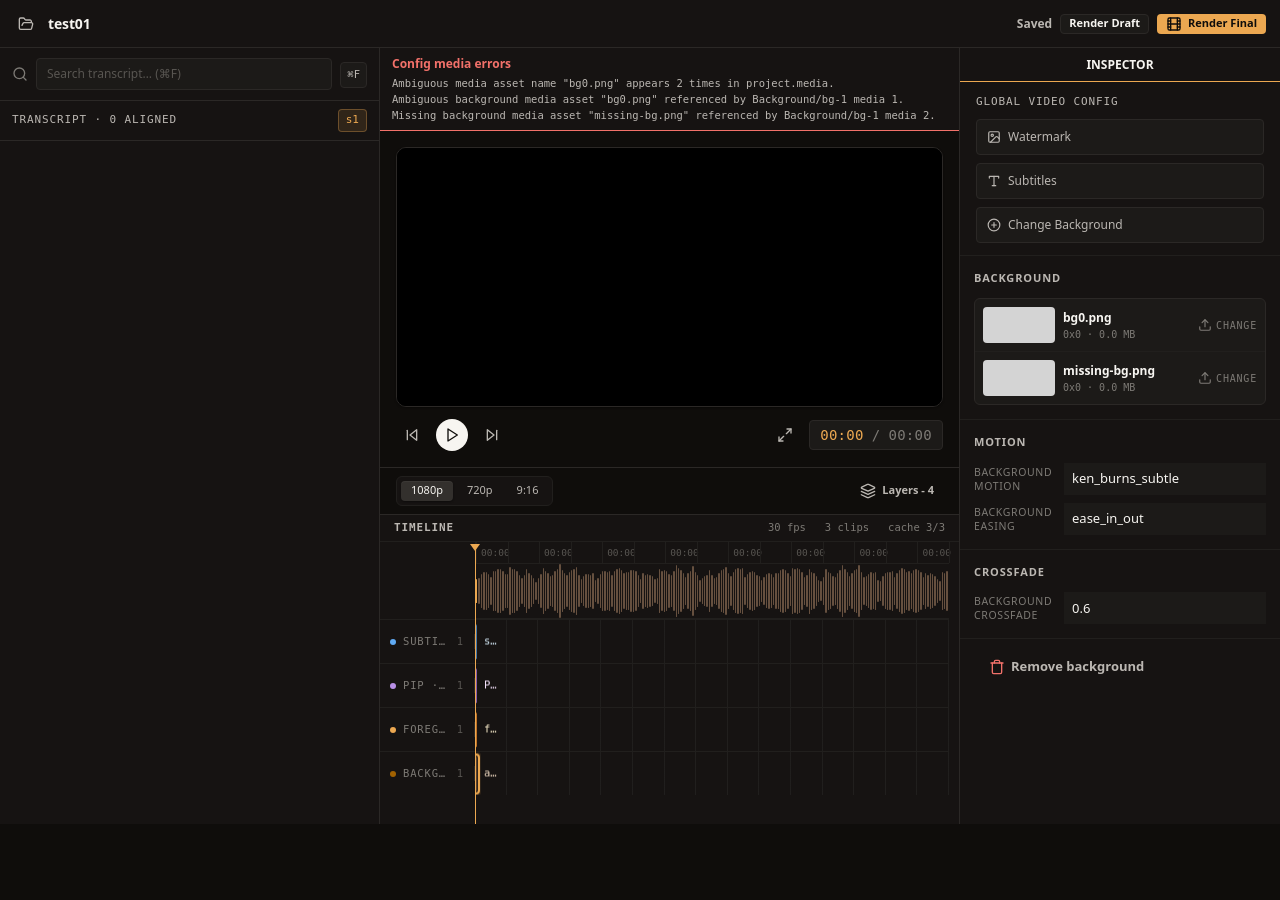
Test: surfaces missing and ambiguous config media as errors
expect the message "Config media errors" shows "Ambiguous media asset name \"bg0.png\"": met, box left=392, top=77, right=834, bottom=89
expect the message "Config media errors" shows "Ambiguous background media asset \"bg0.png\"": met, box left=392, top=93, right=904, bottom=105
Step 1. Click the button "Change Background" → (1120, 224), box left=976, top=206, right=1264, bottom=242
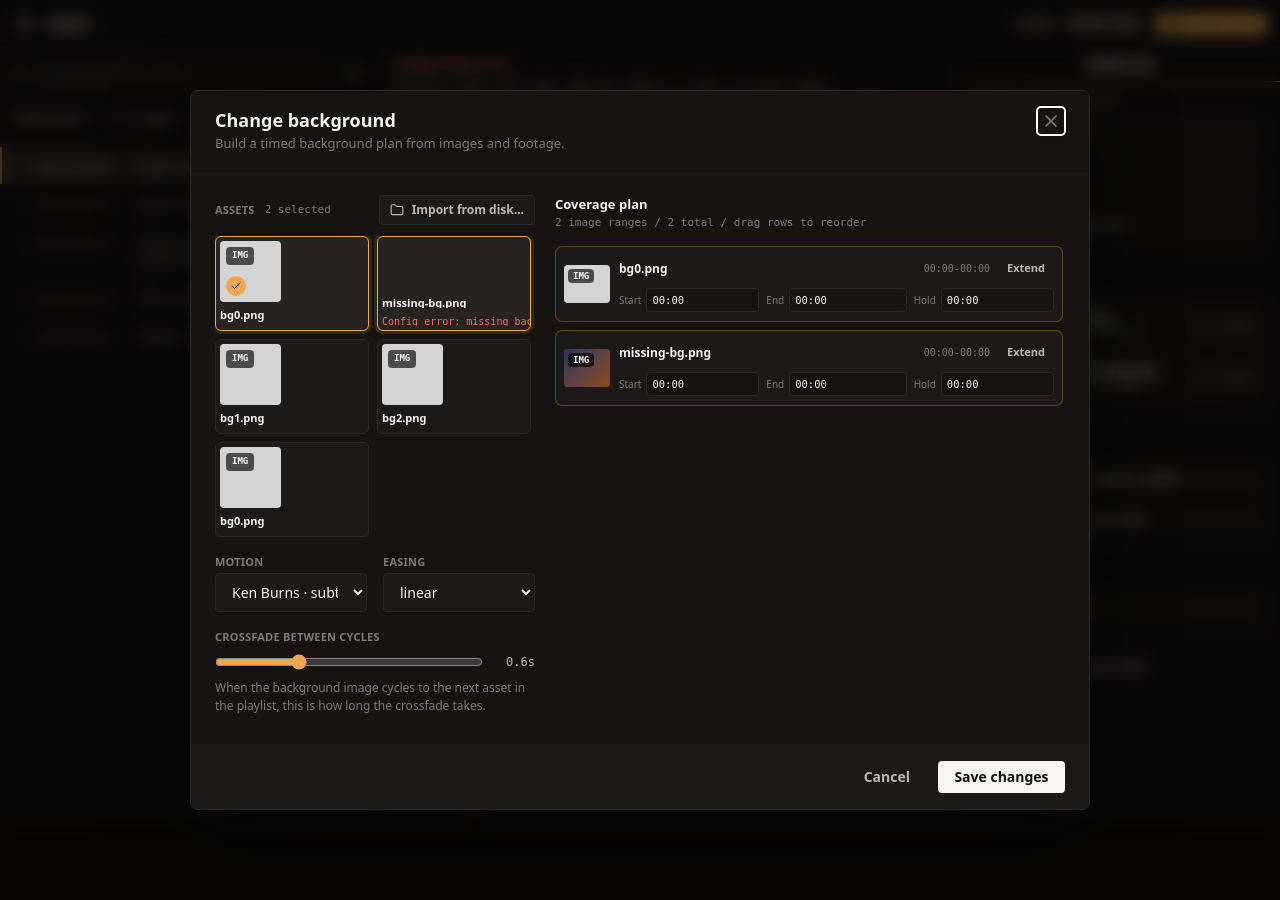
expect the button with aria-label "missing-bg.png selected" shows "Config error: missing background media asset": met, box left=377, top=236, right=531, bottom=331
